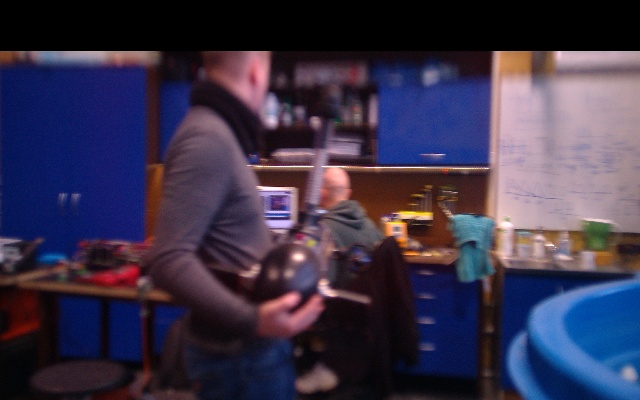black: (303, 147, 330, 208)
